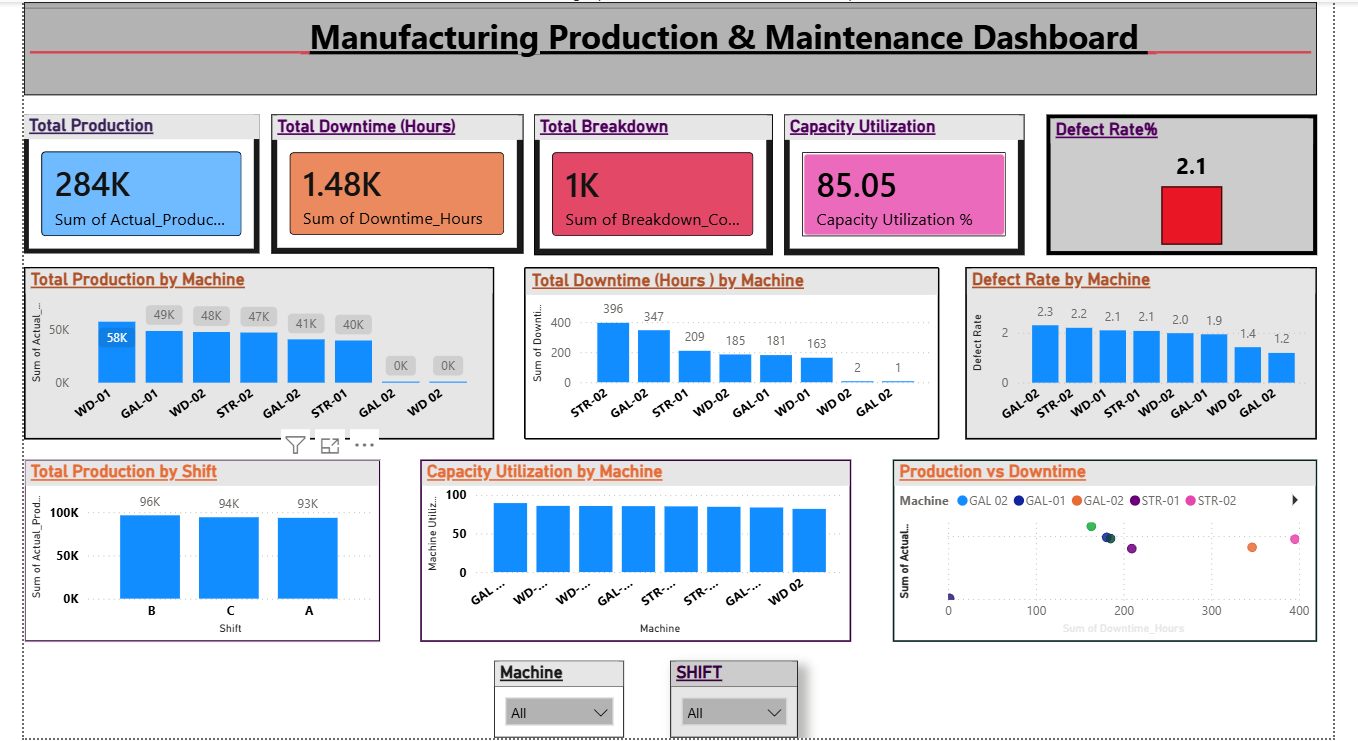

The page's visual inventory and layout, read from the dashboard file:
{"tool":"powerbi","page":{"name":"Page 1","canvas":[1280,720],"ordinal":0},"visuals":[{"type":"cardVisual","title":"     Total Production ","fields":{"Data":["Sum(manufacturing_production_data.Actual_Production)"]},"box":[0,110,230,136.2],"z":0},{"type":"cardVisual","title":"Total Downtime (Hours)","fields":{"Data":["Sum(manufacturing_production_data.Downtime_Hours)"]},"box":[242.5,110,246.2,136.2],"z":1000},{"type":"cardVisual","title":"    Total Breakdown","fields":{"Data":["Sum(manufacturing_production_data.Breakdown_Count)"]},"box":[498.8,110,233.8,137.5],"z":2000},{"type":"cardVisual","title":"Capacity Utilization ","fields":{"Data":["manufacturing_production_data.Capacity Utilization %"]},"box":[743.8,110,235,137.5],"z":3000},{"type":"clusteredColumnChart","title":"Defect Rate% ","fields":{"Y":["manufacturing_production_data.Defect Rate"]},"box":[1000,110,265,137.5],"z":4000},{"type":"clusteredColumnChart","title":"Total Production by Machine","fields":{"Category":["manufacturing_production_data.Machine"],"Y":["Sum(manufacturing_production_data.Actual_Production)"]},"box":[0,258.8,460,168.8],"z":5000},{"type":"clusteredColumnChart","title":"Total  Downtime (Hours ) by Machine","fields":{"Category":["manufacturing_production_data.Machine"],"Y":["Sum(manufacturing_production_data.Downtime_Hours)"]},"box":[488.8,258.8,406.2,168.8],"z":6000},{"type":"clusteredColumnChart","fields":{"Category":["manufacturing_production_data.Machine"],"Y":["manufacturing_production_data.Defect Rate"]},"box":[921.2,258.8,343.8,168.8],"z":7000},{"type":"clusteredColumnChart","title":"Capacity Utilization by Machine","fields":{"Category":["manufacturing_production_data.Machine"],"Y":["manufacturing_production_data.Machine Utilization"]},"box":[387.6,447.6,421.9,178.5],"z":8000},{"type":"clusteredColumnChart","title":"Total Production by Shift","fields":{"Category":["manufacturing_production_data.Shift"],"Y":["Sum(manufacturing_production_data.Actual_Production)"]},"box":[0,447.6,348.5,178.5],"z":9000},{"type":"scatterChart","title":"Production vs Downtime","fields":{"X":["Sum(manufacturing_production_data.Downtime_Hours)"],"Y":["Sum(manufacturing_production_data.Actual_Production)"],"Series":["manufacturing_production_data.Machine"]},"box":[850,447.5,415,178.8],"z":10000},{"type":"slicer","title":"Machine","fields":{"Values":["manufacturing_production_data.Machine"]},"box":[460,645,127.5,75],"z":11000},{"type":"textbox","box":[0,0,1265,91.2],"z":12000},{"type":"slicer","title":"SHIFT","fields":{"Values":["manufacturing_production_data.Shift"]},"box":[632.5,645,125,75],"z":13000}]}

Visuals, with their boxes in screenshot pixels (x1, y1, x2, y2):
"     Total Production " cardVisual: crop(25, 112, 259, 250)
"Total Downtime (Hours)" cardVisual: crop(271, 112, 522, 250)
"    Total Breakdown" cardVisual: crop(532, 112, 770, 252)
"Capacity Utilization " cardVisual: crop(781, 112, 1020, 252)
"Defect Rate% " clusteredColumnChart: crop(1042, 112, 1312, 252)
"Total Production by Machine" clusteredColumnChart: crop(25, 263, 493, 435)
"Total  Downtime (Hours ) by Machine" clusteredColumnChart: crop(522, 263, 935, 435)
clusteredColumnChart - manufacturing_production_data.Machine x manufacturing_production_data.Defect Rate: crop(962, 263, 1312, 435)
"Capacity Utilization by Machine" clusteredColumnChart: crop(419, 455, 848, 637)
"Total Production by Shift" clusteredColumnChart: crop(25, 455, 379, 637)
"Production vs Downtime" scatterChart: crop(889, 455, 1312, 637)
"Machine" slicer: crop(493, 656, 622, 732)
textbox: crop(25, 0, 1312, 93)
"SHIFT" slicer: crop(668, 656, 795, 732)
